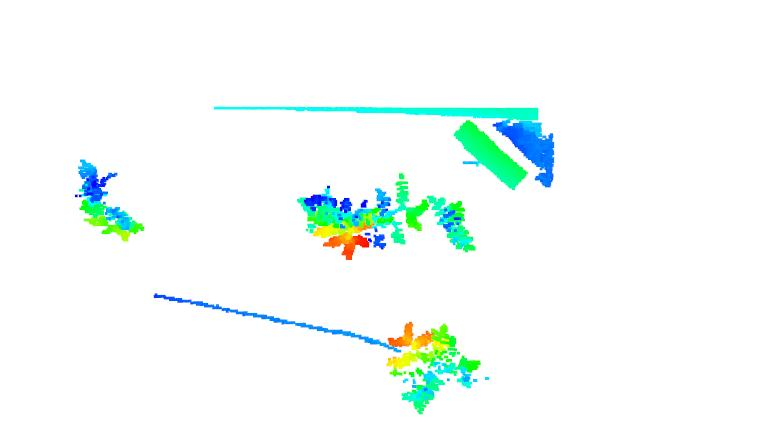chickpea: (384, 318, 491, 415), (75, 155, 149, 244), (304, 185, 376, 261), (373, 170, 427, 245), (431, 197, 490, 262)
